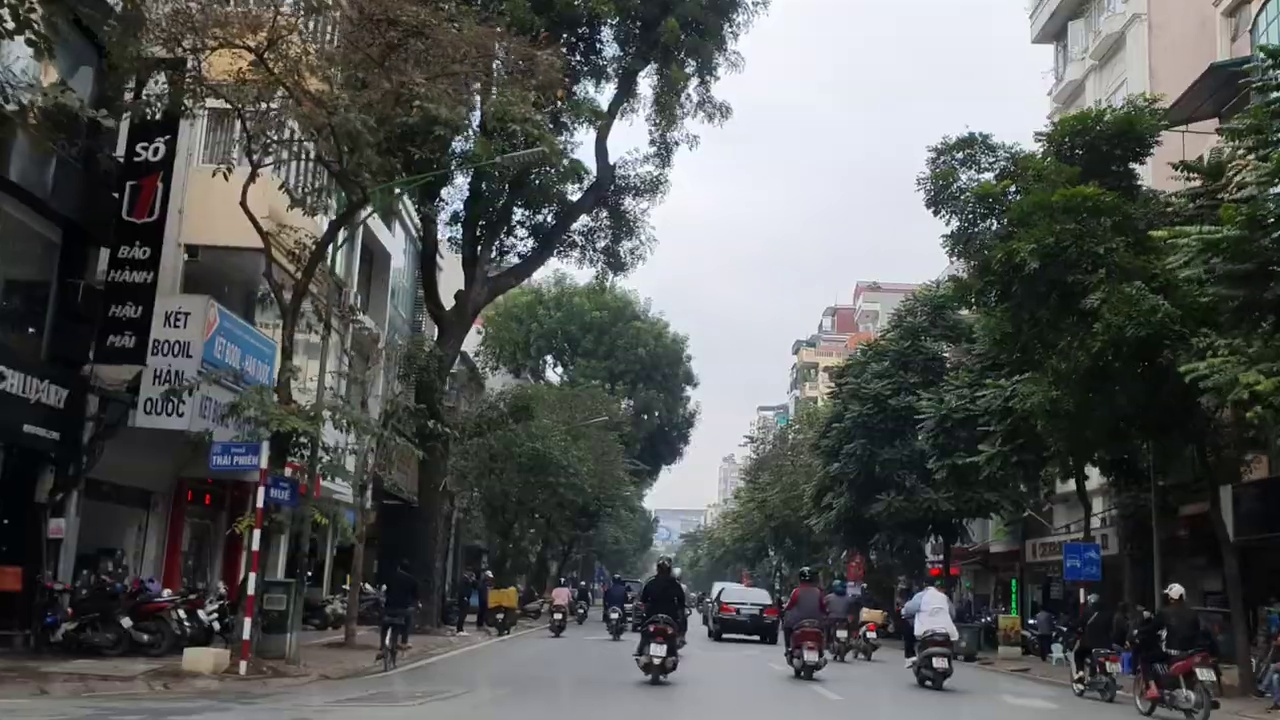vehicle-plate: (639, 631, 682, 662), (920, 645, 957, 677), (794, 638, 824, 666)
